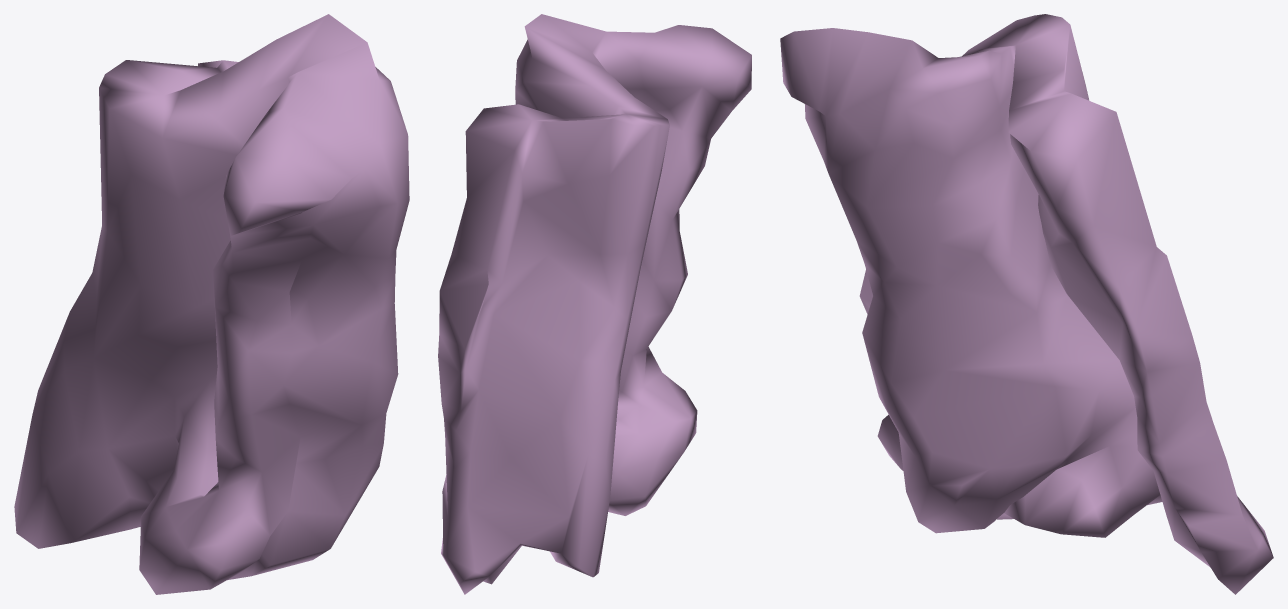
3 views of the same model, side by side, from view 1: azimuth 30°, elevation 25°; view 2: azimuth 150°, elevation 25°; view 3: azimuth 270°, elevation 25° (orthographic). The views are drawn at different scales.
Parts seen in each view (by area): view 1: 右侧扣带回与扣带沟中前部; view 2: 右侧扣带回与扣带沟中前部; view 3: 右侧扣带回与扣带沟中前部.
Boxes of the visible parts, left/top/right/bottom form: 右侧扣带回与扣带沟中前部: left=14, top=14, right=409, bottom=594; 右侧扣带回与扣带沟中前部: left=438, top=14, right=751, bottom=594; 右侧扣带回与扣带沟中前部: left=780, top=14, right=1273, bottom=594.
Size of the model in its own units: 0.0214 by 0.054 by 0.0426.
